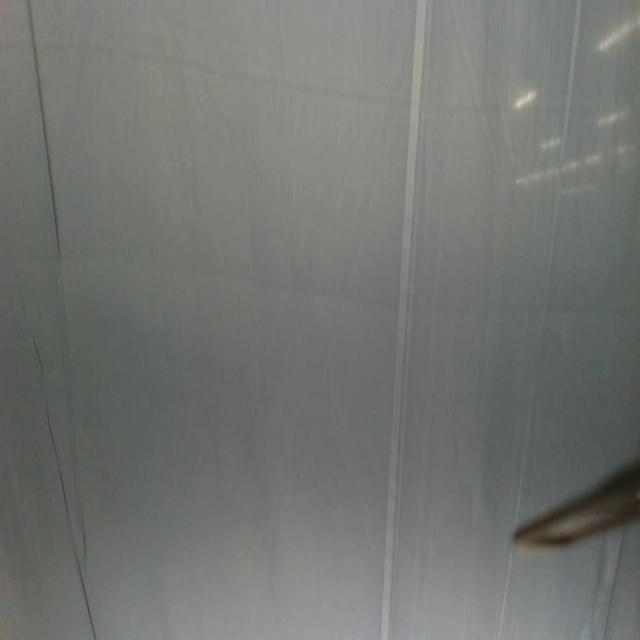color bleeding: (0, 38, 640, 320)
crease: (519, 2, 583, 506), (381, 0, 428, 638), (46, 410, 96, 635), (26, 4, 64, 264), (603, 531, 628, 640), (494, 553, 515, 640), (31, 338, 45, 382)
